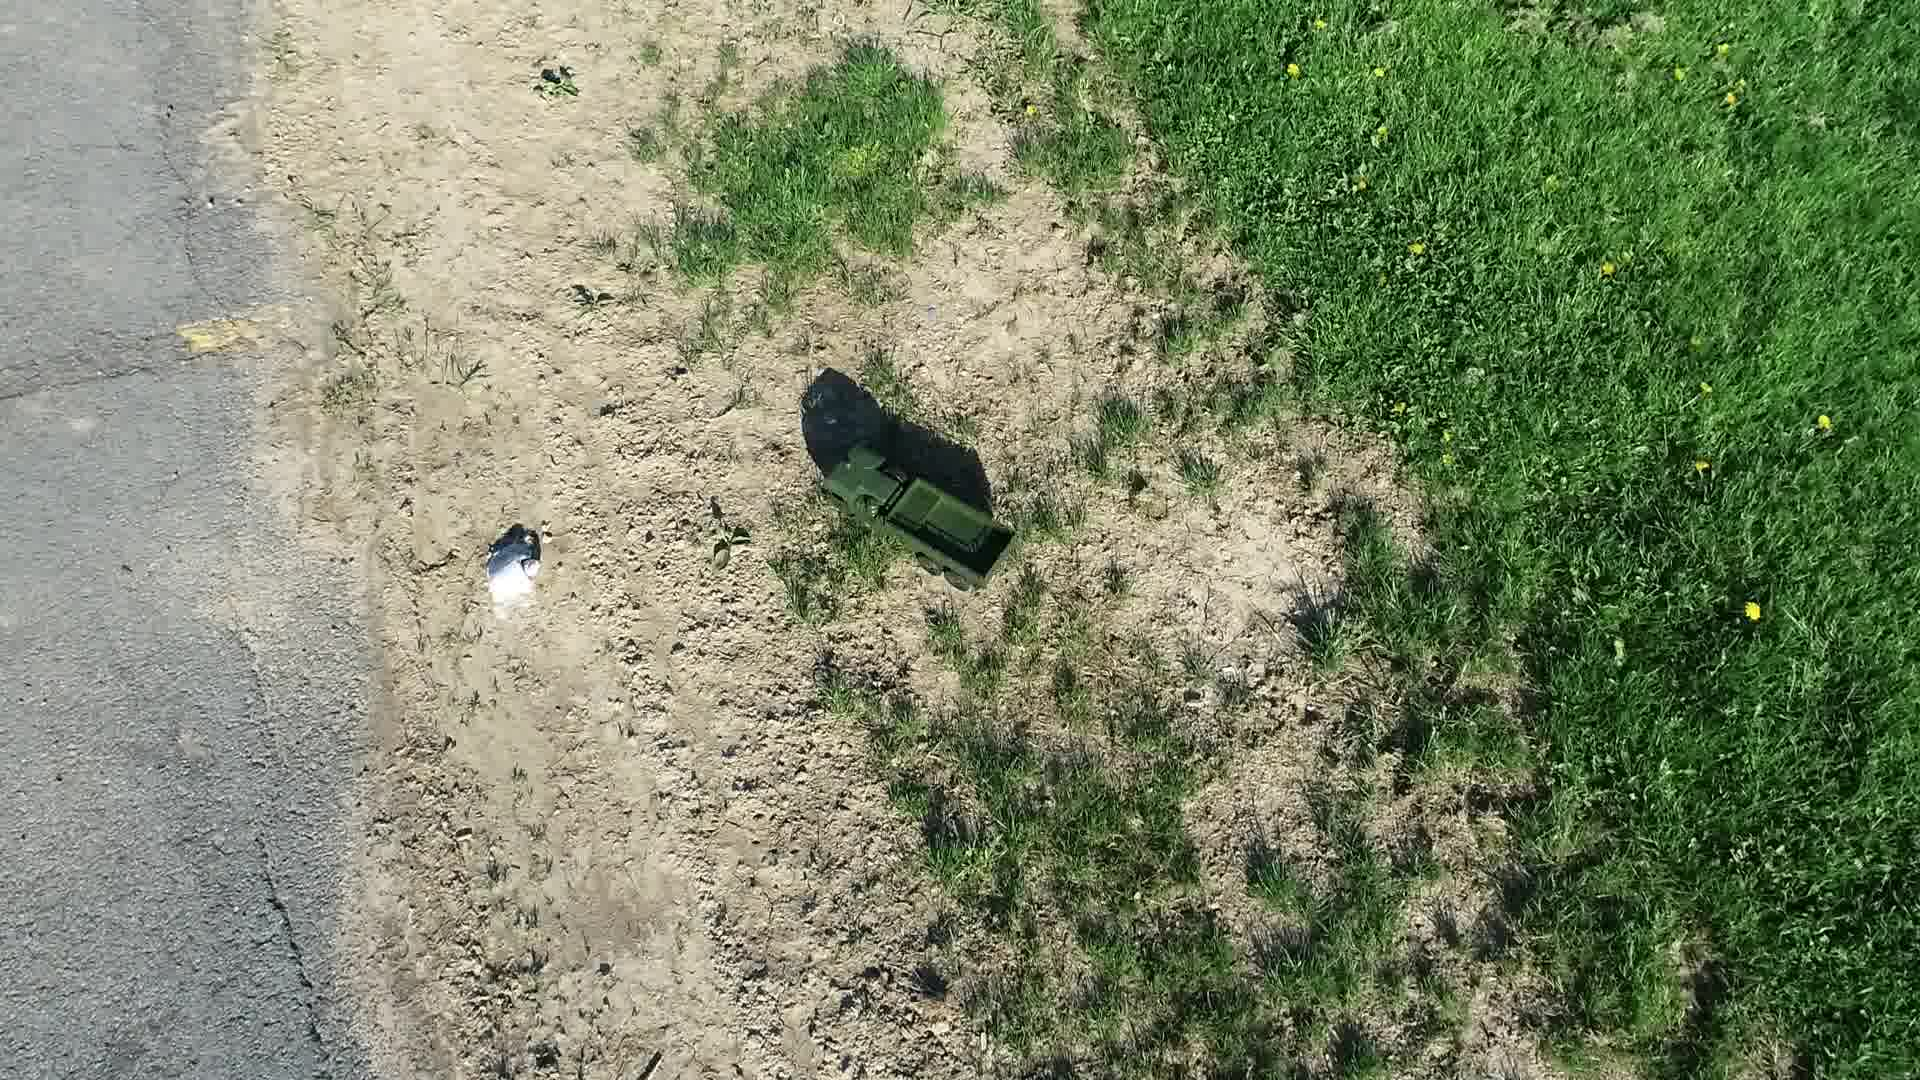transporter9: (811, 439, 1031, 597)
